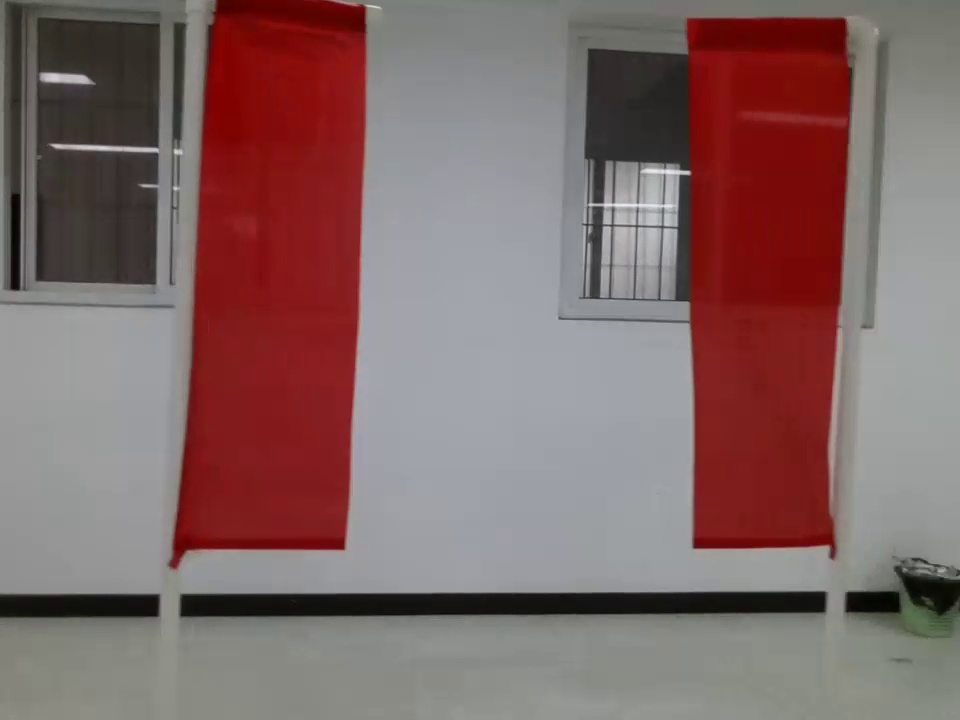qi: (667, 7, 881, 589), (160, 1, 362, 582)
